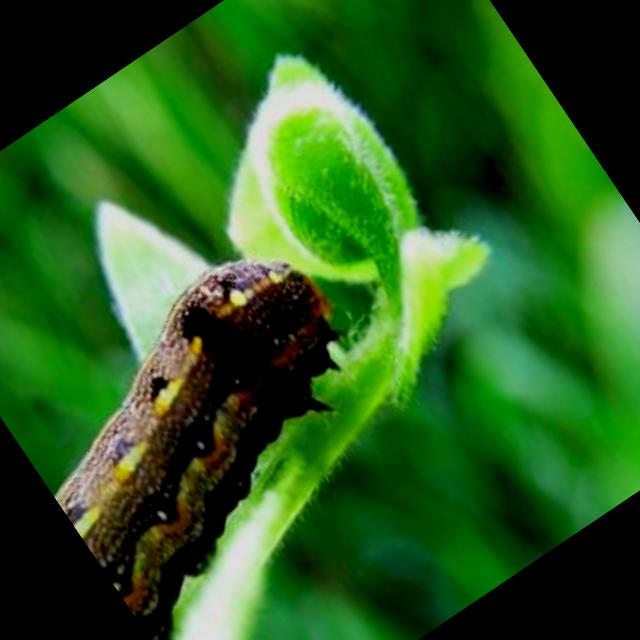Tobacco cutworm: (0, 193, 478, 640)
